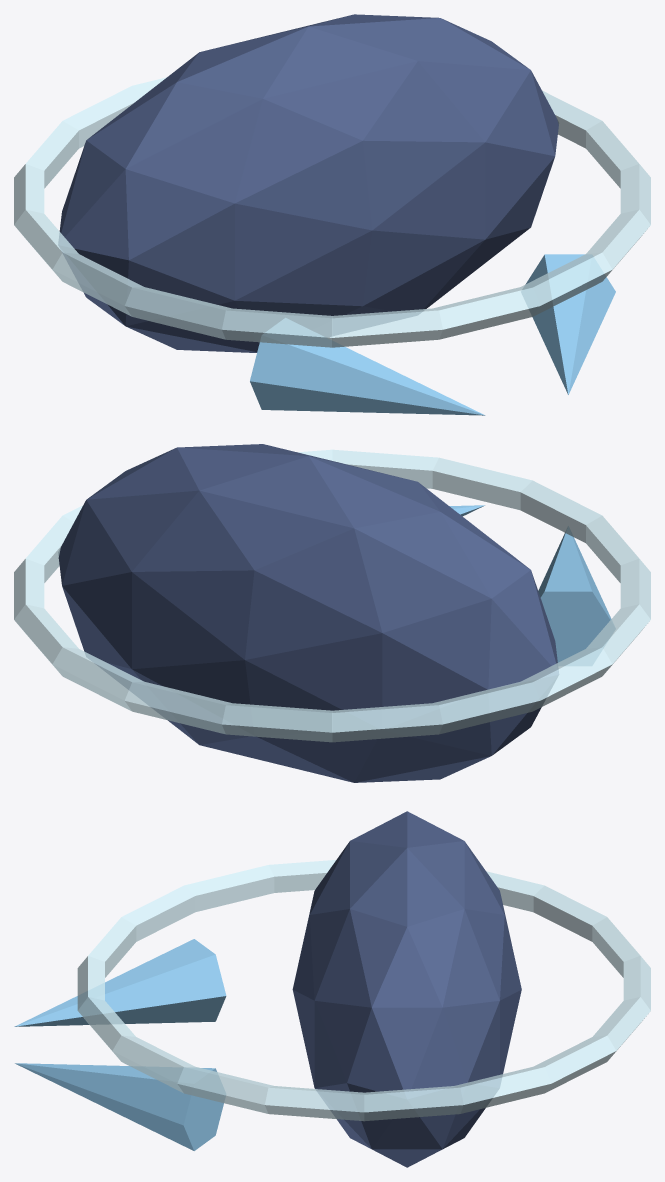
File: 06_creature_skin_element_overlay_6.glb
3 renders of one model, top to bottom at view 1: azimuth 30°, elevation 25°; view 2: azimuth 150°, elevation 25°; view 3: azimuth 270°, elevation 25°, orthographic. The views are drawn at different scales.
Parts seen in each view (by area): view 1: skin_patch_body, element_aura, elemental_horn_l, elemental_horn_r; view 2: skin_patch_body, element_aura, elemental_horn_l; view 3: skin_patch_body, element_aura, elemental_horn_l, elemental_horn_r.
Boxes of the visible parts, x1,y1,x2,y2 form: skin_patch_body: (58, 14, 558, 352); element_aura: (14, 77, 650, 347); elemental_horn_l: (250, 318, 485, 415); elemental_horn_r: (521, 254, 615, 394); skin_patch_body: (58, 444, 558, 782); element_aura: (14, 449, 650, 742); elemental_horn_l: (538, 526, 615, 665); skin_patch_body: (292, 811, 521, 1167); element_aura: (77, 860, 650, 1121); elemental_horn_l: (14, 939, 226, 1026); elemental_horn_r: (15, 1063, 225, 1150).
Size of the model in its own units: 0.95 by 0.51 by 1.04.
